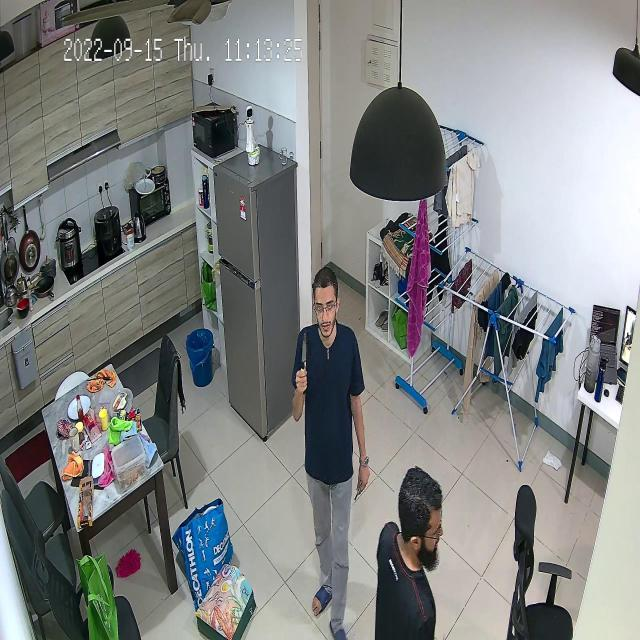Knife: (291, 327, 317, 376)
